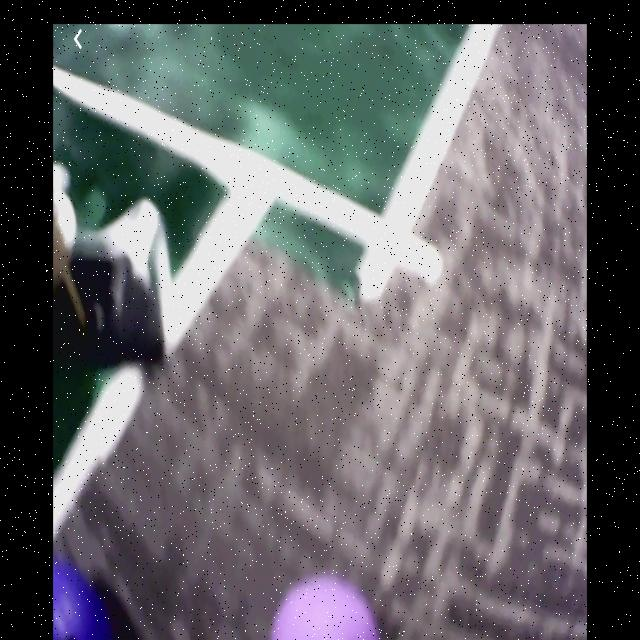ball: (259, 580, 386, 640), (56, 551, 105, 640)
